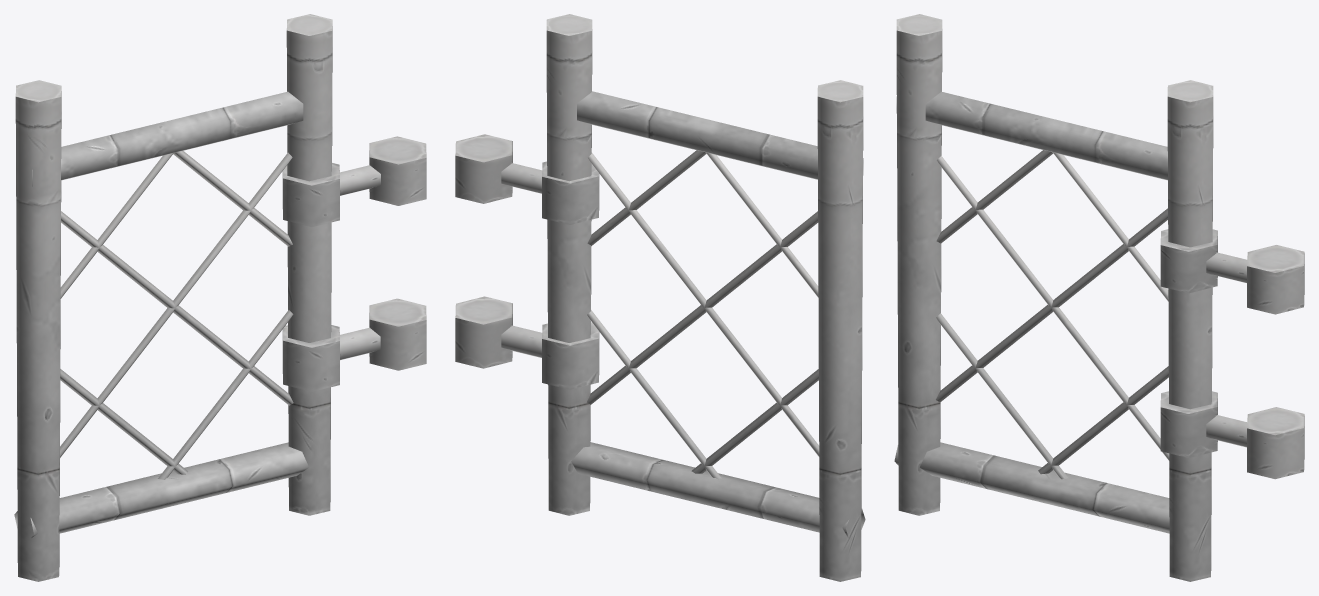
Rendered from Pfb_BarbedWire__2.fbx.
3 renders of one model, left to right at view 1: azimuth 30°, elevation 25°; view 2: azimuth 150°, elevation 25°; view 3: azimuth 330°, elevation 25°, orthographic.
Visible parts, largest first — view 1: Mat_BarbedWire_01; view 2: Mat_BarbedWire_01; view 3: Mat_BarbedWire_01.
Part boxes in pixels (x1,y1,x2,y2): Mat_BarbedWire_01: (14, 14, 426, 581); Mat_BarbedWire_01: (455, 14, 865, 581); Mat_BarbedWire_01: (894, 14, 1304, 581).
Size of the model in its own units: 1.77 by 1.99 by 0.219.
Materials: 1 (1 with a texture image).
